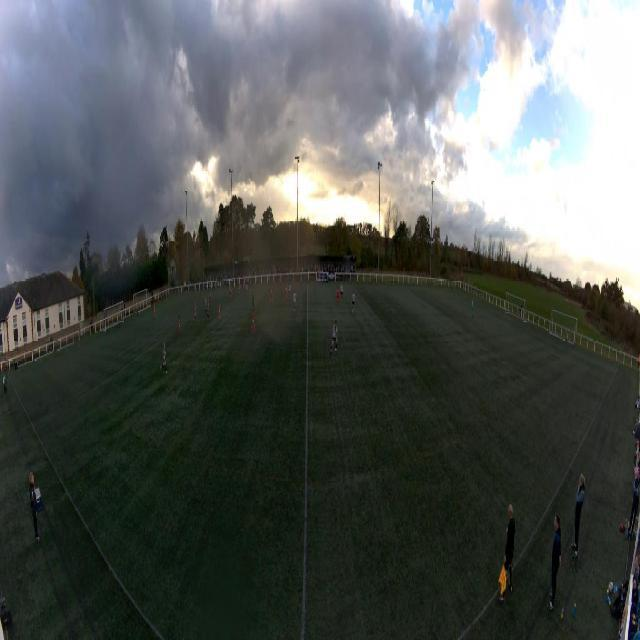ball: (250, 289, 251, 291)
player: (330, 319, 338, 355), (161, 343, 167, 374), (250, 308, 256, 335), (351, 290, 356, 314), (193, 299, 197, 321), (293, 290, 297, 312), (217, 304, 221, 324), (284, 285, 288, 305), (336, 286, 340, 305), (340, 283, 344, 301), (269, 289, 273, 305), (244, 283, 248, 299), (252, 293, 255, 311), (178, 315, 180, 339), (289, 284, 292, 300), (207, 301, 209, 320), (205, 297, 207, 315), (238, 284, 241, 296), (472, 299, 474, 317), (154, 303, 156, 319), (230, 285, 232, 301), (209, 291, 211, 303), (243, 281, 245, 291)
